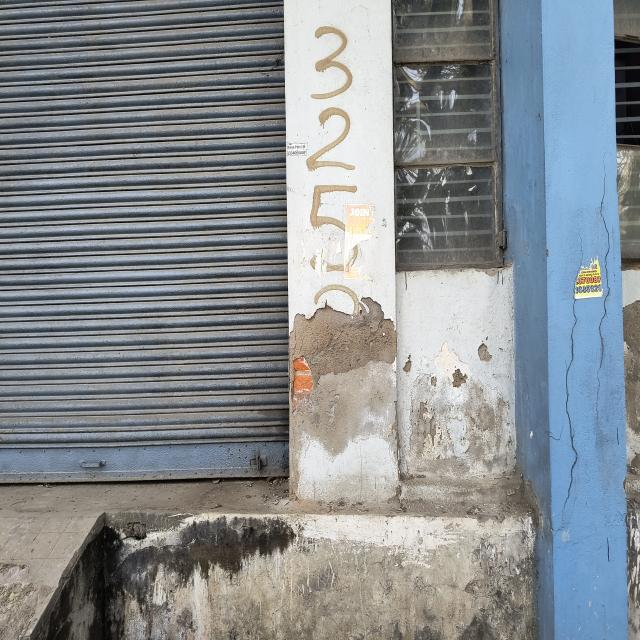Crack: (561, 226, 585, 518), (595, 149, 613, 425)
Graffiti: (307, 24, 359, 306)
Paint Peeling: (398, 333, 515, 477)
Scaling: (290, 298, 397, 499)
